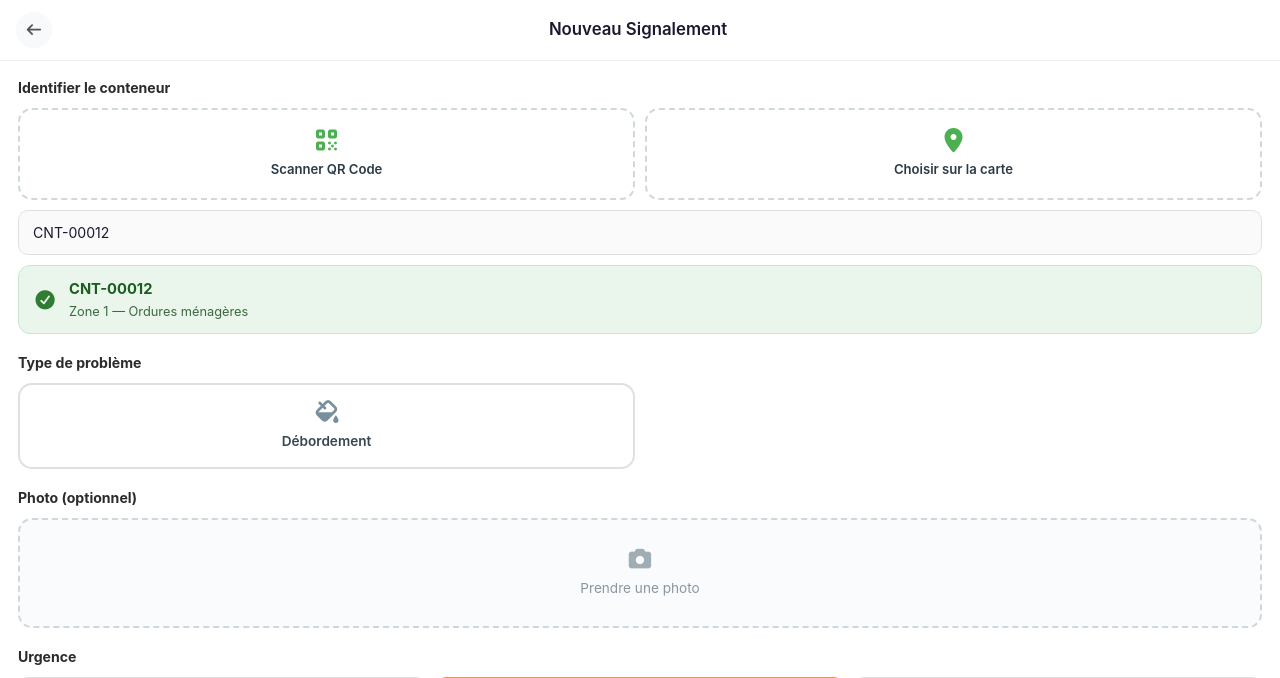
Test case: CitoyenSignaler — résolution de l'identifiant conteneur › état pré-rempli depuis la carte/le scanner : envoi possible directement
The width and height of the screenshot is (1280, 678).
Expected: the text "Zone 1 — Ordures ménagères" is shown, [69, 302, 248, 321]
Click the button "Débordement" at point(326, 441), box [18, 383, 635, 469]
(page scrolled)
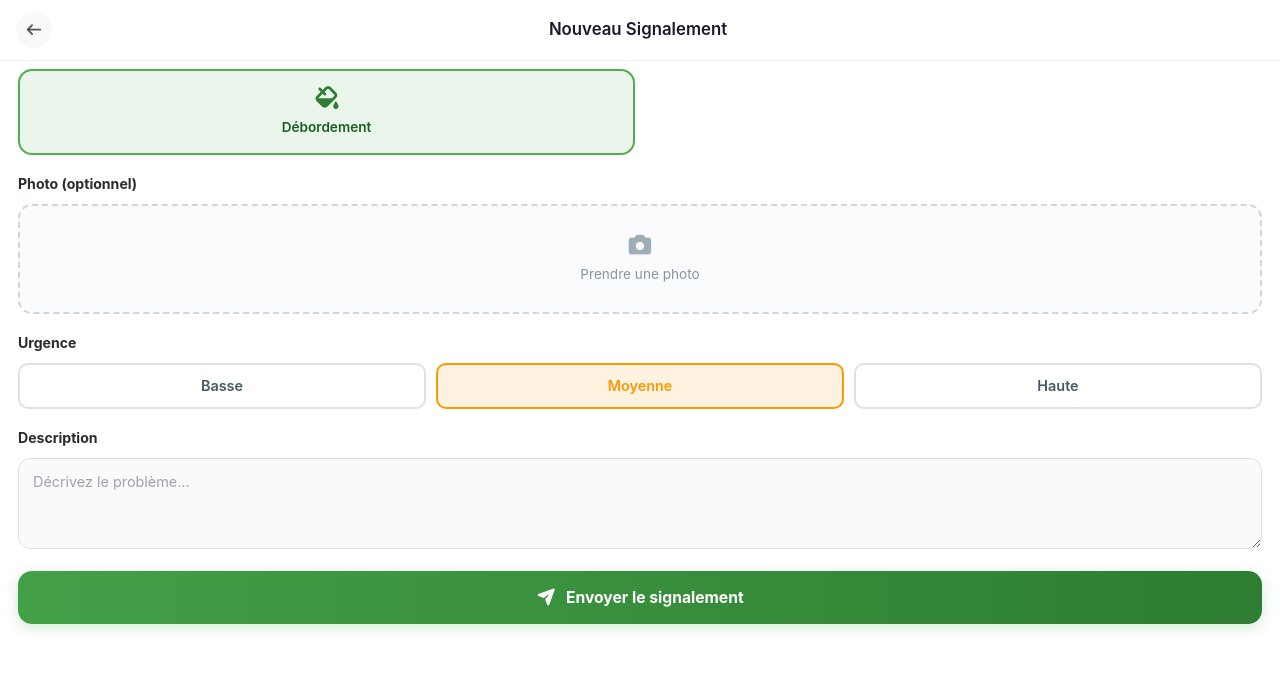
Now the button "Envoyer le signalement" is enabled, box [18, 571, 1262, 624]
